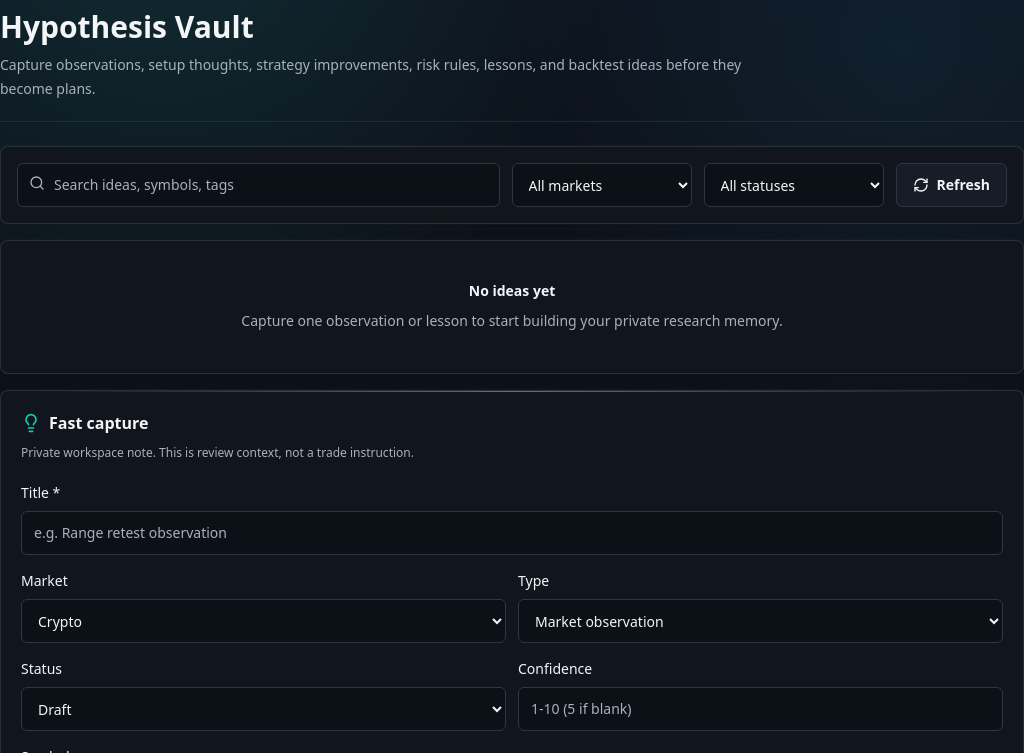
ideas errors are shown in the page language › a failed save (English) says the idea could not be saved for a server error
The width and height of the screenshot is (1024, 753).
Type "Range retest" into the field labelled "Title *". click: (512,533)
box: [21,511,1003,555]
(page scrolled)
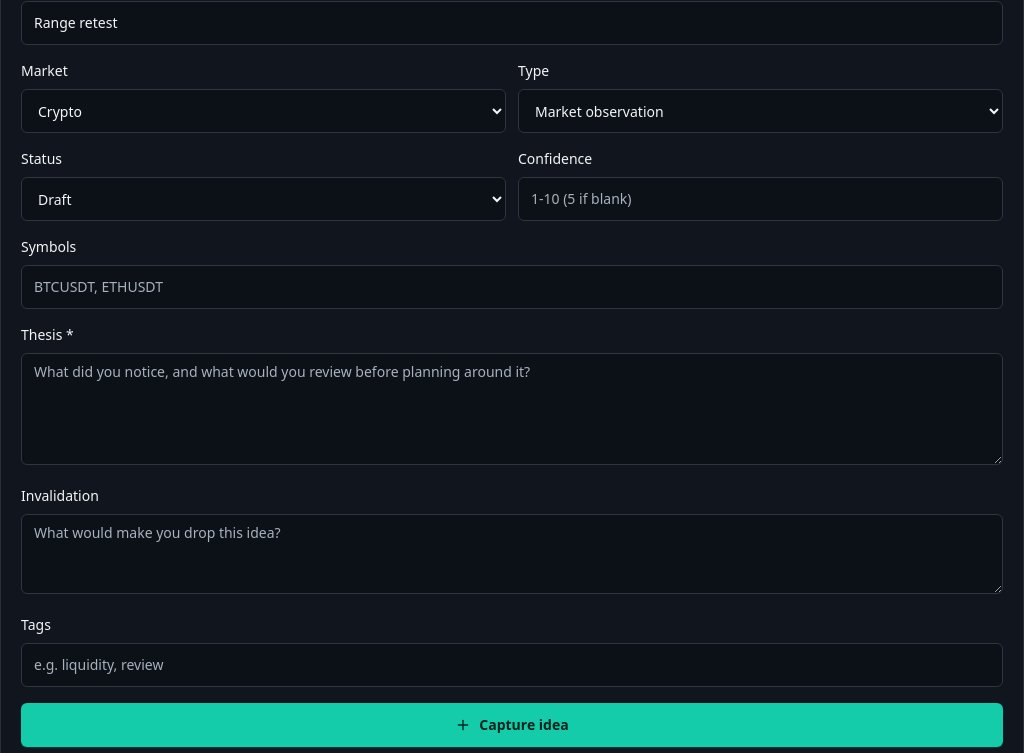
Replace the text in the text box labelled "Thesis *" with "Review whether it held.". click: (512,409)
box: [21,353,1003,465]
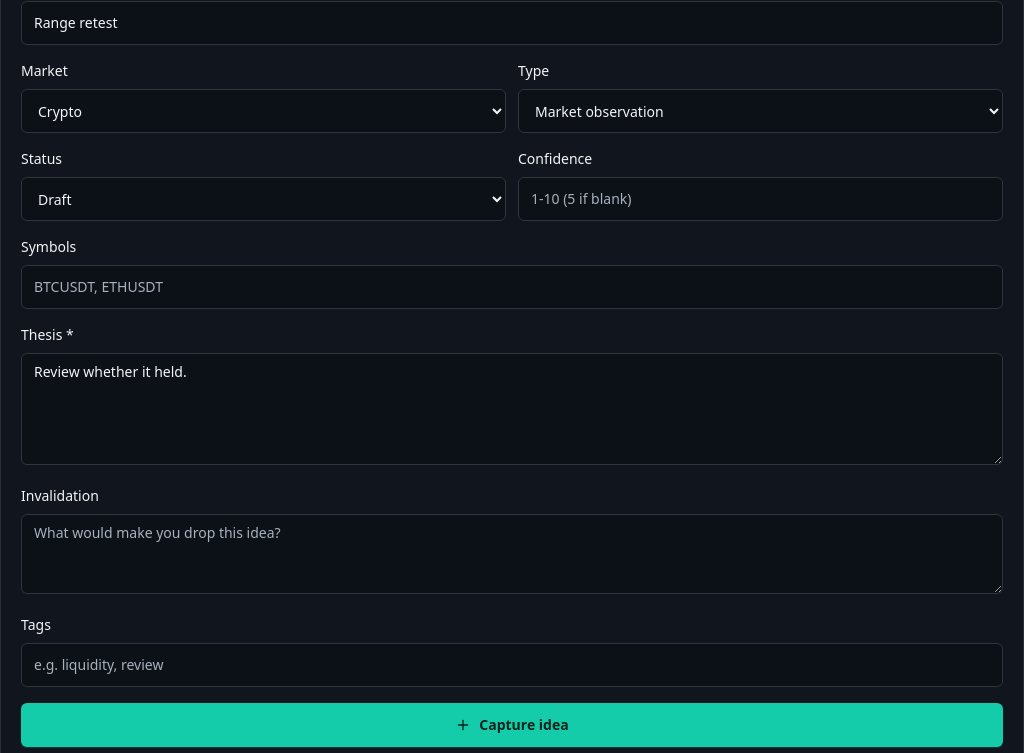
Click the button "Capture idea". click: (512,725)
box: [21,703,1003,747]
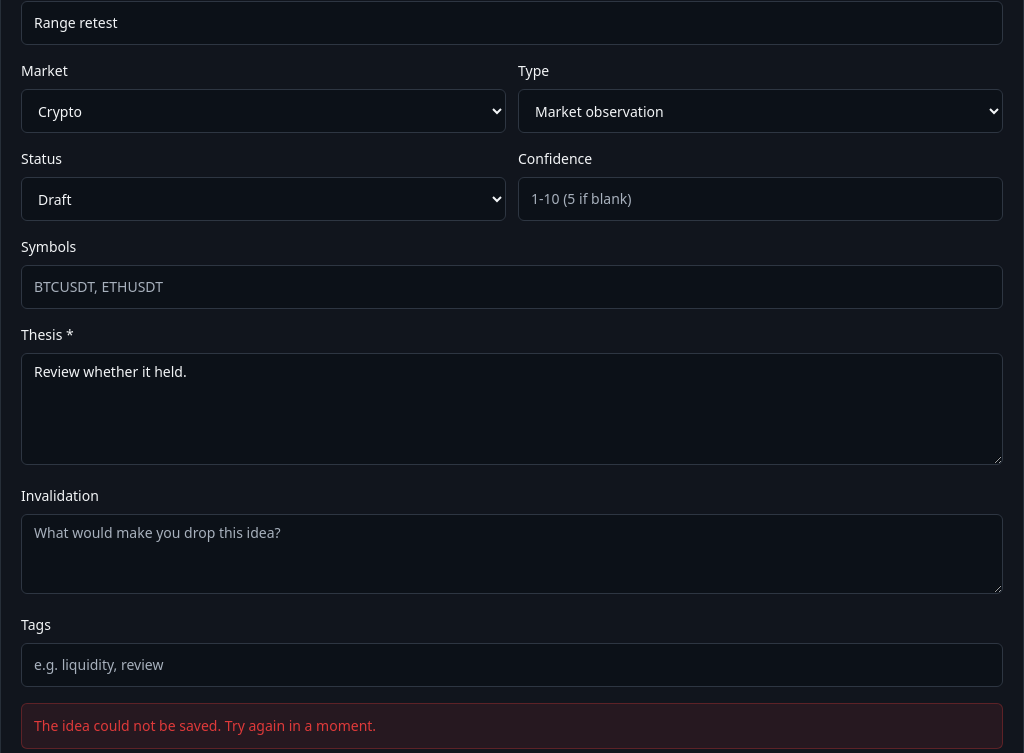
Expected: the message shows "The idea could not be saved", [34,716,376,735]
